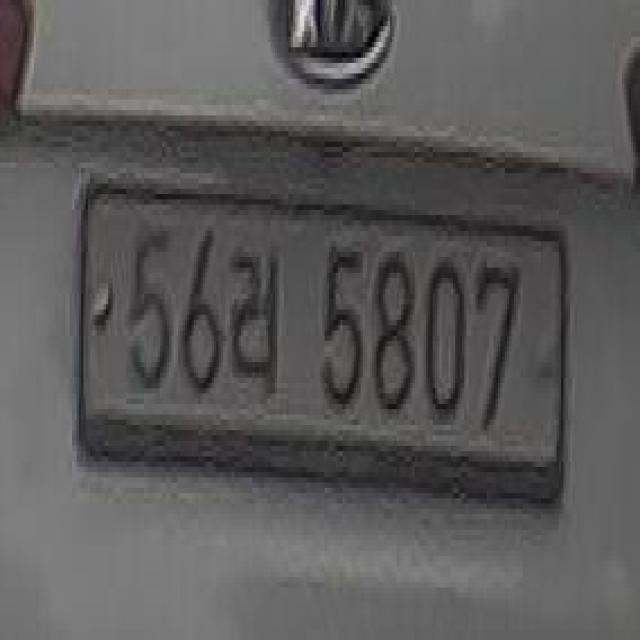illegal_plate: (78, 170, 573, 536)
